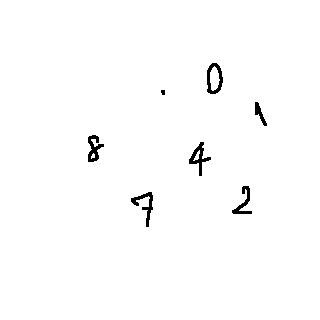.: (156, 88, 170, 100)
0: (198, 59, 232, 102)
1: (245, 94, 278, 140)
2: (228, 179, 262, 225)
4: (179, 133, 217, 183)
7: (123, 185, 168, 237)
8: (80, 125, 108, 173)
